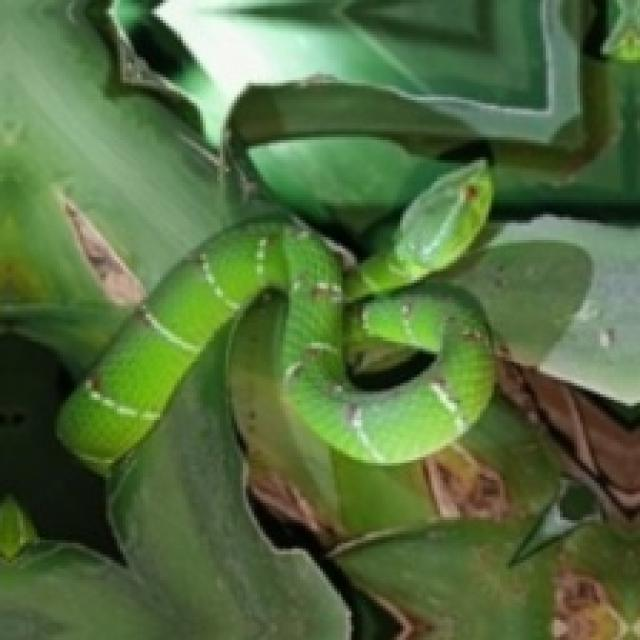north ph temple pitviper: (57, 160, 491, 469)
